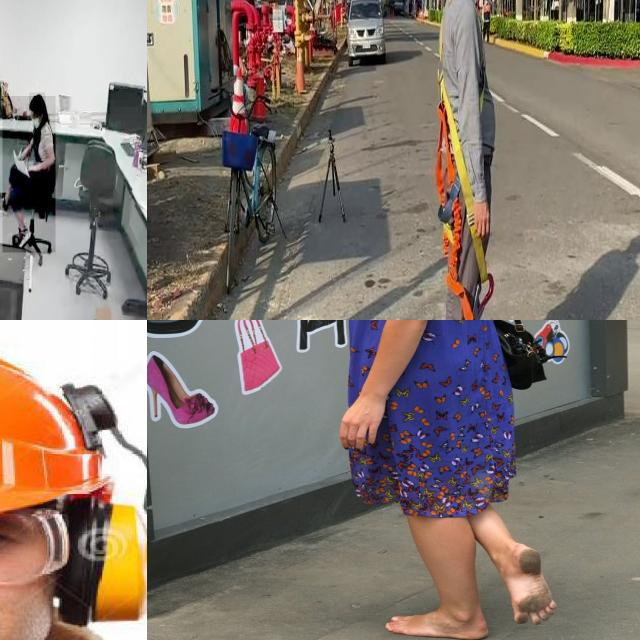Barefoots: (507, 544, 558, 625), (385, 610, 489, 640)
Ear-protection: (0, 490, 147, 640)
Harness: (436, 75, 489, 320)
face_mask: (30, 111, 42, 132)
glasses: (0, 510, 82, 607), (11, 225, 32, 251), (0, 197, 9, 215)
hand_noglove: (26, 162, 40, 172)
head_helmet: (0, 344, 121, 530)
head_nohelmet: (29, 92, 45, 110)
person: (0, 340, 147, 640), (2, 96, 56, 253)
